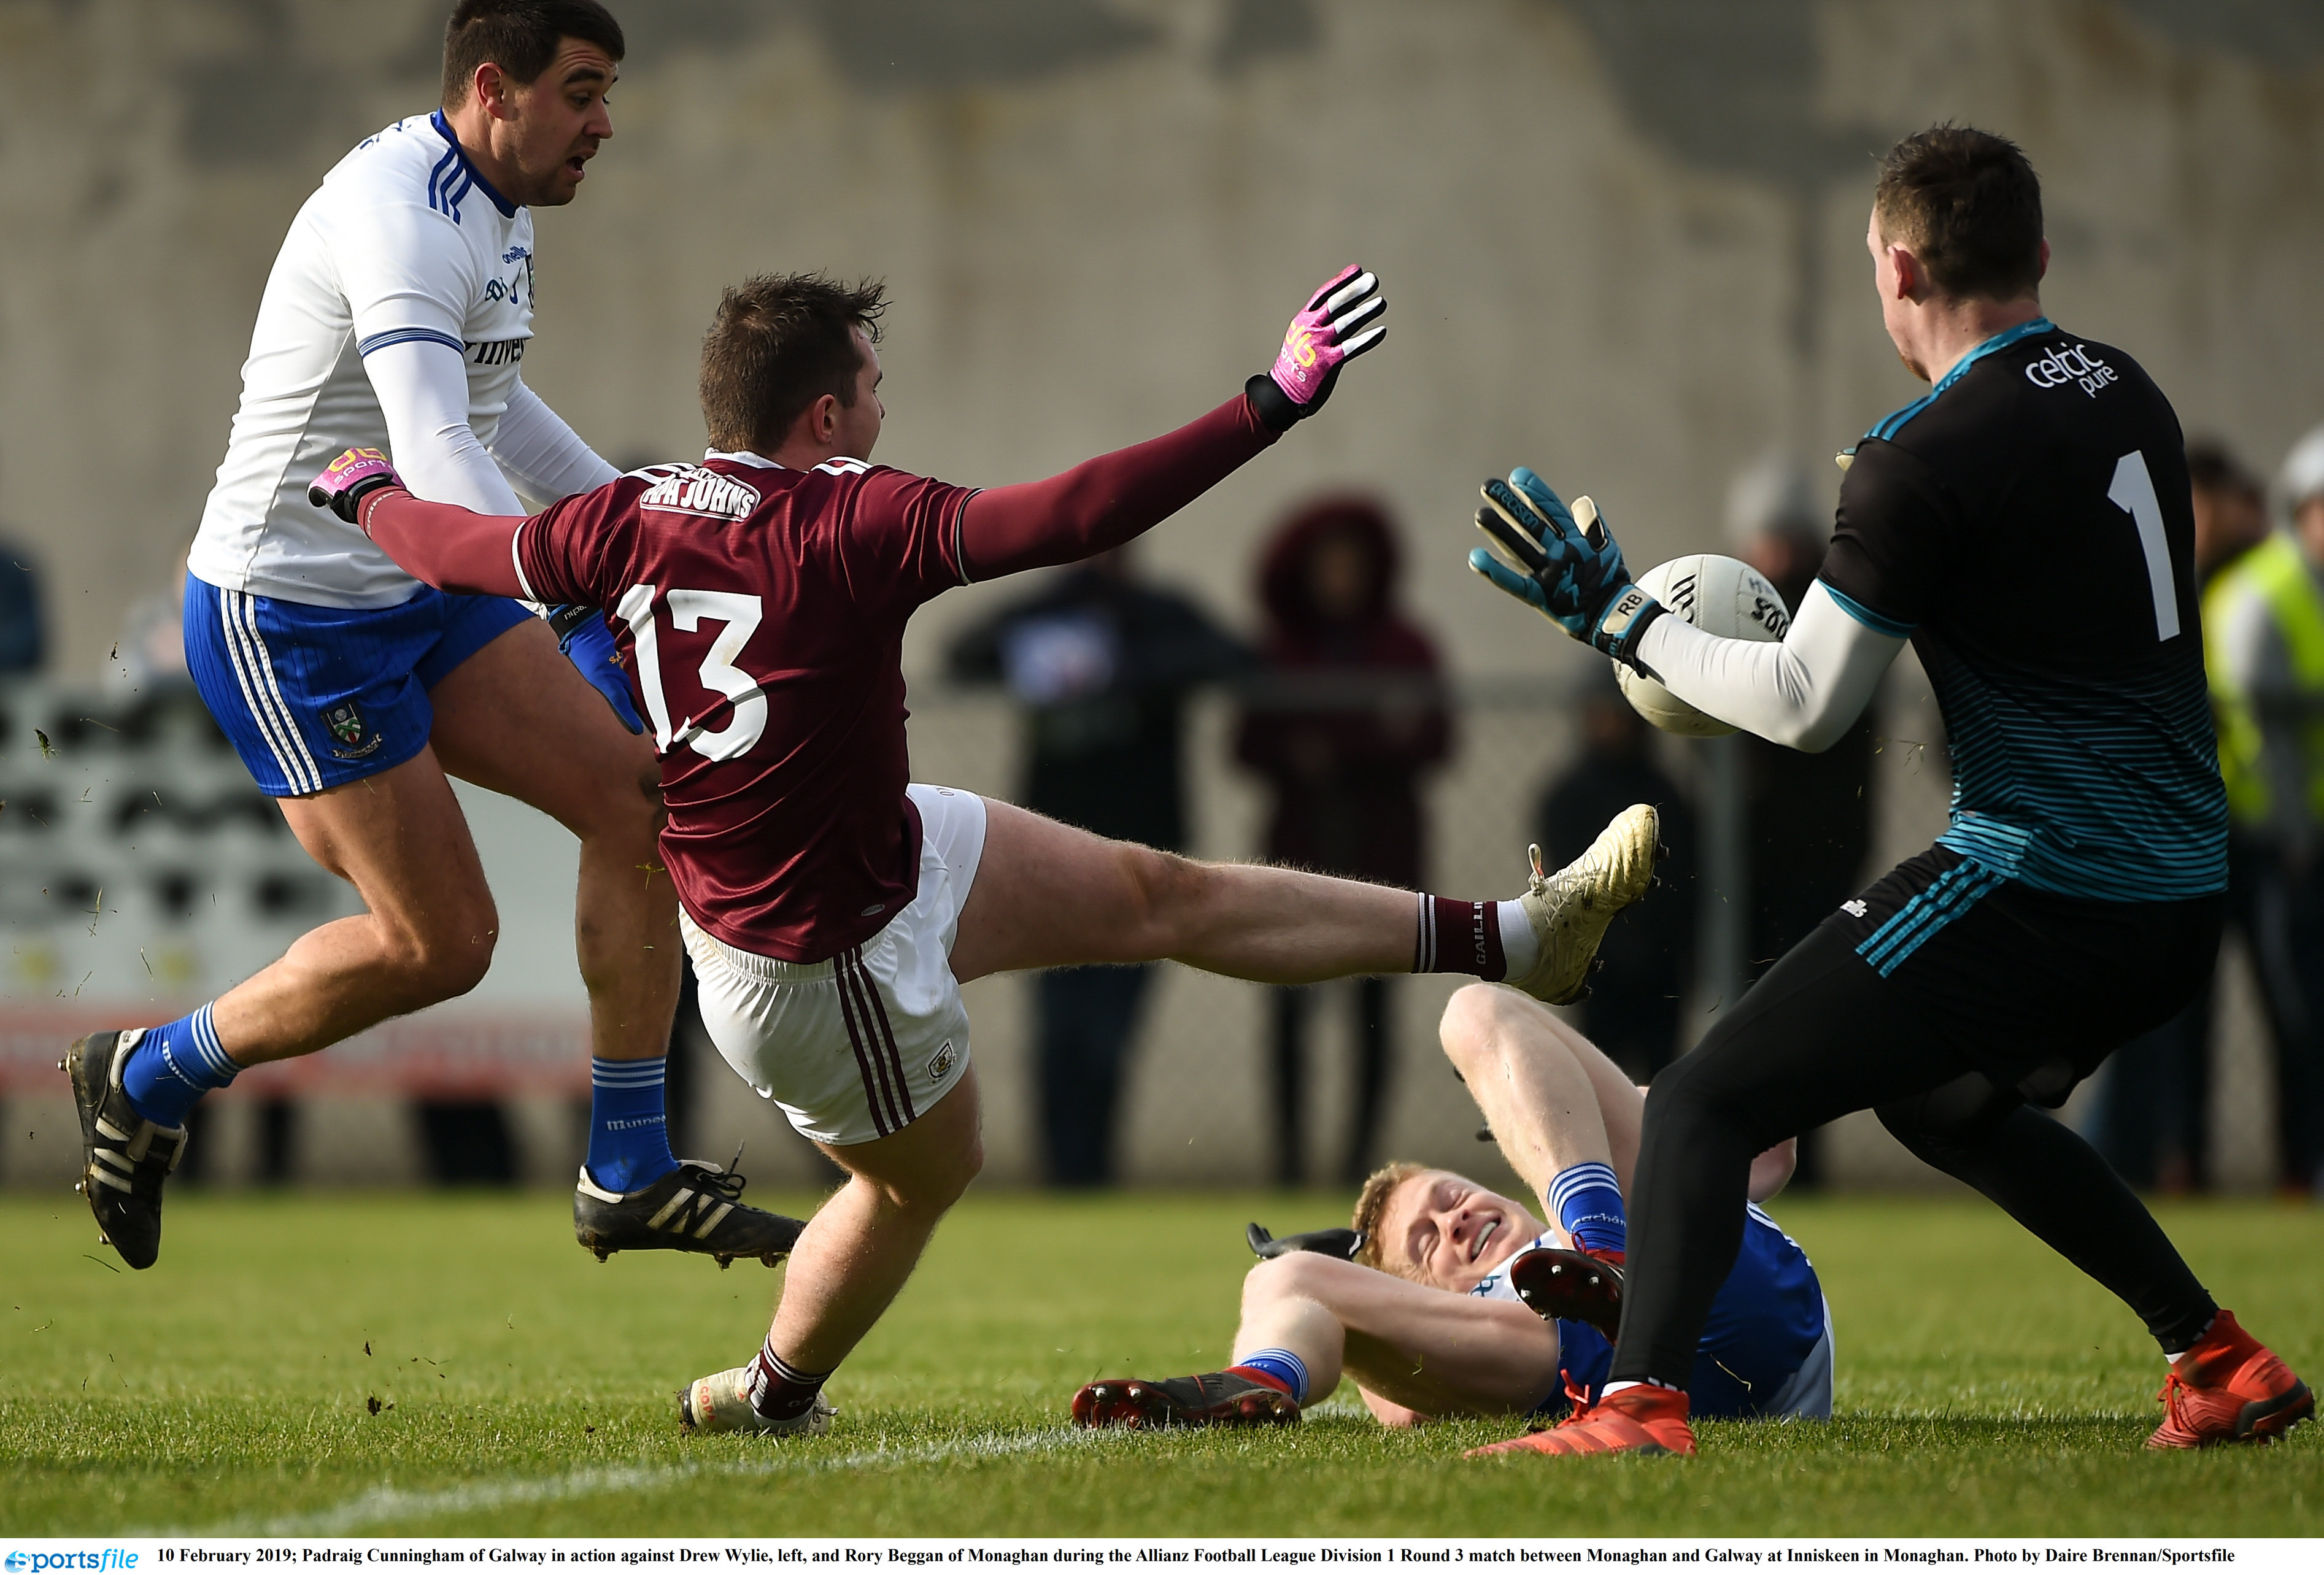ball: (1589, 539, 1782, 721)
player: (1734, 71, 2289, 1421), (644, 247, 1157, 1276), (247, 9, 698, 1094), (1253, 1068, 1823, 1423)
